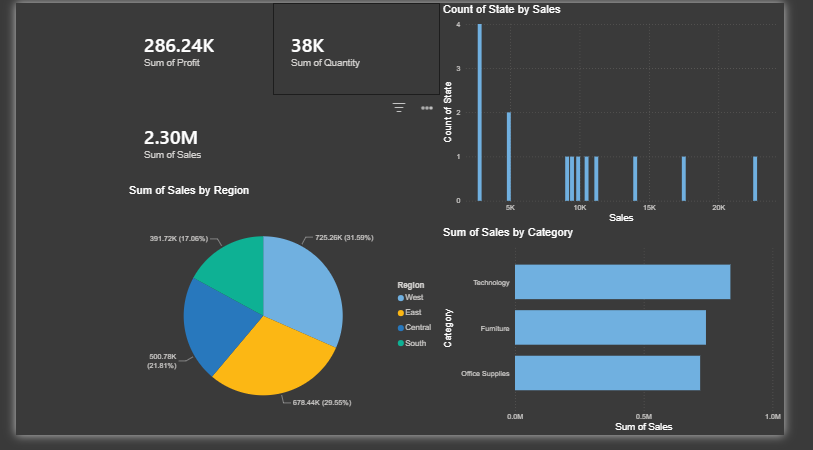

The dashboard page shown, as its layout file describes it:
{"tool":"powerbi","page":{"name":"Page 1","canvas":[1280,720],"ordinal":0},"visuals":[{"type":"cardVisual","fields":{"Data":["Sum(SampleSuperstore.Sales)"]},"box":[183.3,153.3,523.3,153.3],"z":0},{"type":"cardVisual","fields":{"Data":["Sum(SampleSuperstore.Profit)"]},"box":[183.3,0,245,153.3],"z":1000},{"type":"cardVisual","fields":{"Data":["Sum(SampleSuperstore.Quantity)"]},"box":[428.3,0,278.3,153.3],"z":2000},{"type":"clusteredBarChart","fields":{"Category":["SampleSuperstore.Category"],"Y":["Sum(SampleSuperstore.Sales)"]},"box":[706.7,371.7,573.3,348.3],"z":3000},{"type":"pieChart","fields":{"Category":["SampleSuperstore.Region"],"Y":["Sum(SampleSuperstore.Sales)"]},"box":[183.3,301.7,523.3,418.3],"z":4000},{"type":"clusteredColumnChart","fields":{"Category":["SampleSuperstore.Sales"],"Y":["CountNonNull(SampleSuperstore.State)"]},"box":[706.7,0,573.3,371.7],"z":4001}]}

Visuals, with their boxes in screenshot pixels (x1, y1, x2, y2), scaled from the page's 1280x720 canvas onto the 813x450 screenshot:
cardVisual - Sum(SampleSuperstore.Sales): 116:96:449:192
cardVisual - Sum(SampleSuperstore.Profit): 116:0:272:96
cardVisual - Sum(SampleSuperstore.Quantity): 272:0:449:96
clusteredBarChart - SampleSuperstore.Category x Sum(SampleSuperstore.Sales): 449:232:812:449
pieChart - SampleSuperstore.Region x Sum(SampleSuperstore.Sales): 116:189:449:449
clusteredColumnChart - SampleSuperstore.Sales x CountNonNull(SampleSuperstore.State): 449:0:812:232
